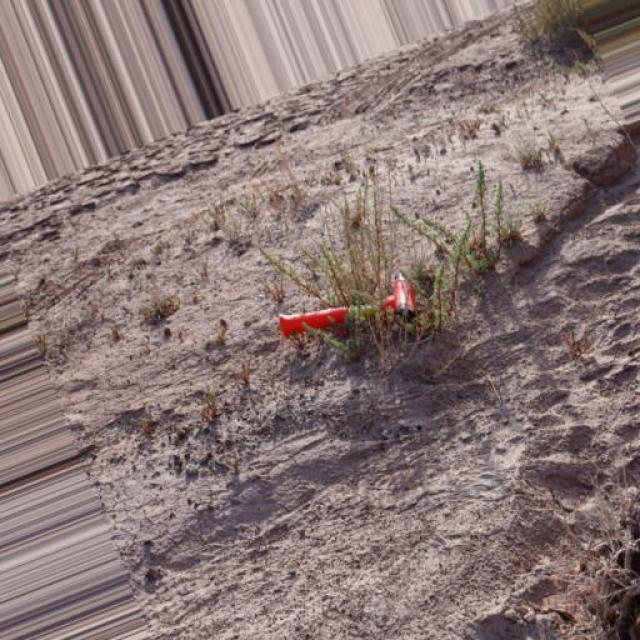mallet: (276, 270, 418, 339)
